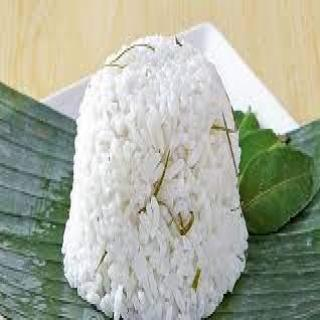Nasi: (61, 35, 248, 319)
